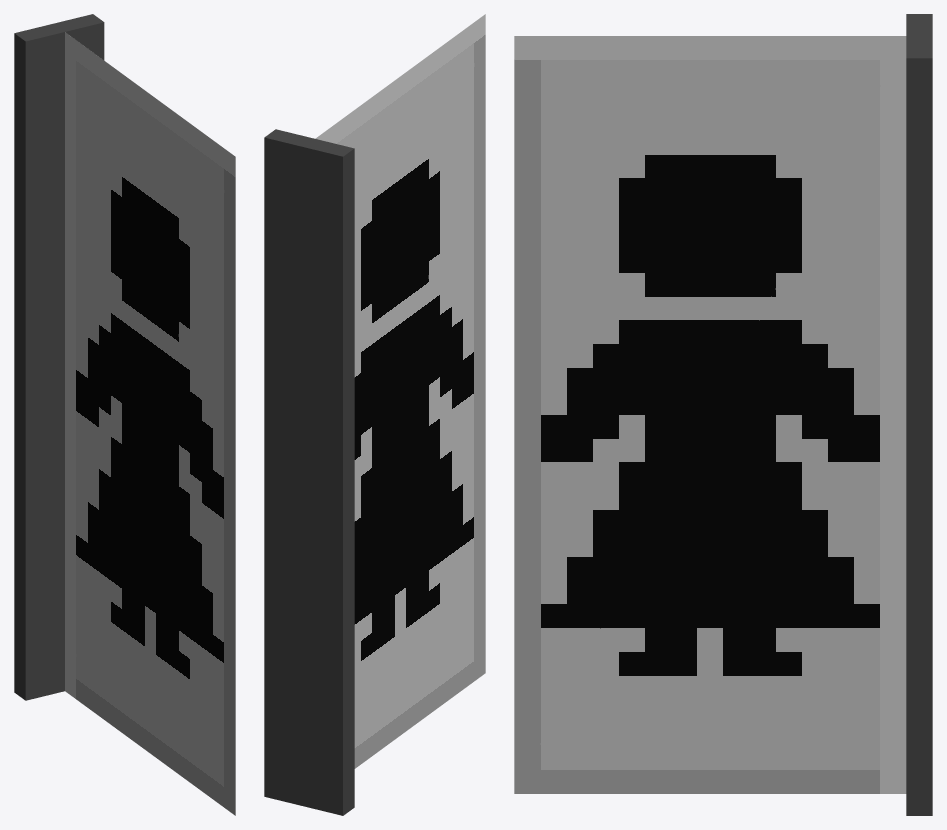
File: restroom_sign_female.obj
3 views of the same model, side by side, from view 1: azimuth 30°, elevation 25°; view 2: azimuth 150°, elevation 25°; view 3: azimuth 270°, elevation 25° (orthographic). The views are drawn at different scales.
Visible parts, largest first — view 1: Sign, Holder; view 2: Sign, Holder; view 3: Sign, Holder.
Boxes of the visible parts, x1,y1,x2,y2 form: Sign: (65,32,235,815); Holder: (14,14,104,700); Sign: (315,14,485,768); Holder: (264,129,354,815); Sign: (514,36,906,793); Holder: (906,14,932,815).
Size of the model in its own units: 0.125 by 1 by 0.5.
